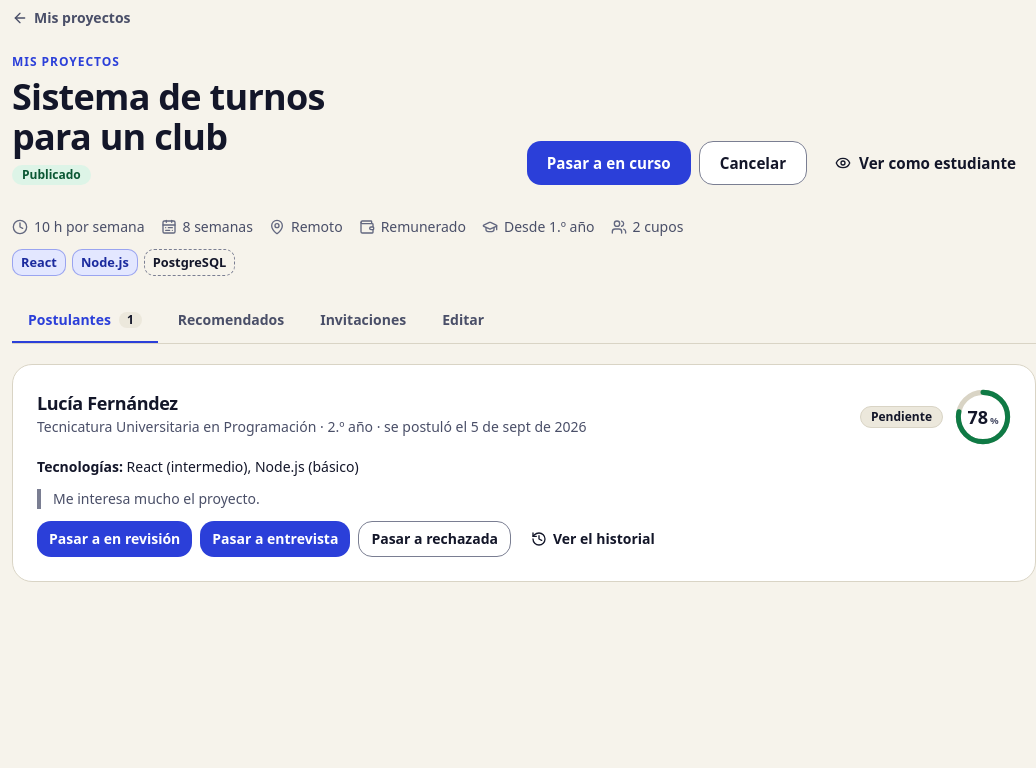
Test: GestionProyectoPage › el publicador puede ver el historial de cada postulación, que se pide recién al abrirlo
The width and height of the screenshot is (1036, 768).
Click the button "Ver el historial": (593, 539) top-left (519, 521), bottom-right (667, 557)
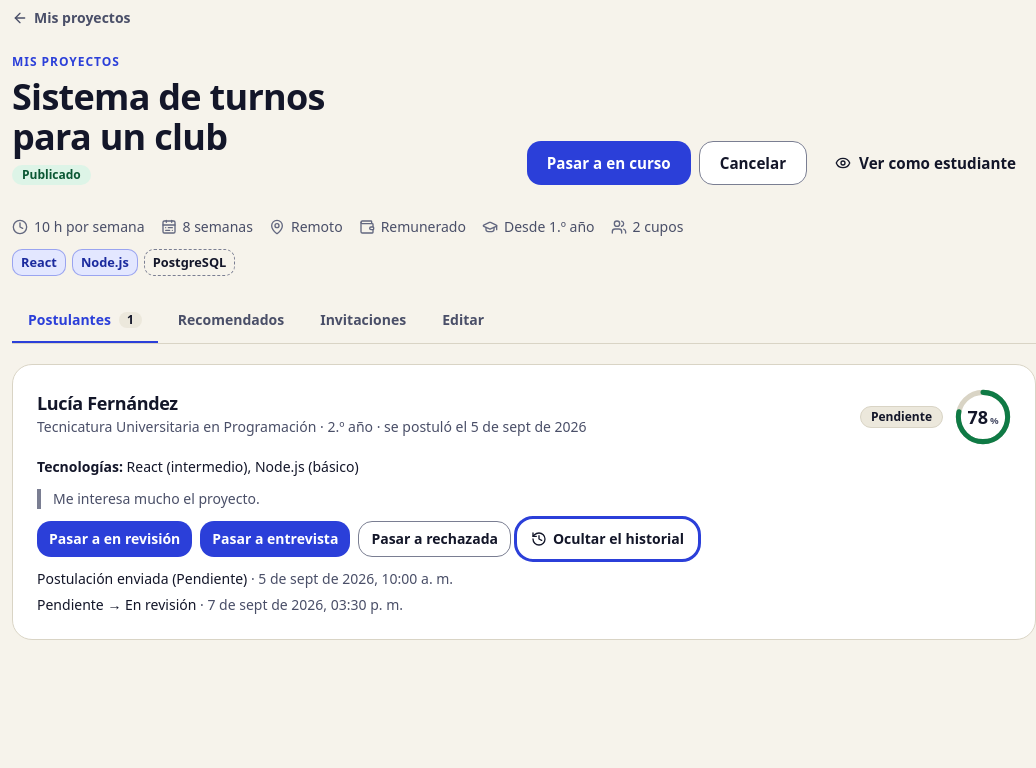
Expected: the list item that starts with "Postulación enviada (Pendiente)" is shown, top-left (37, 569), bottom-right (247, 588)
Expected: the list item "Pendiente → En revisión · 7 de sept de 2026, 03:30 p. m." is shown, top-left (37, 595), bottom-right (403, 614)
Expected: the button "Ocultar el historial" is expanded, top-left (519, 521), bottom-right (696, 557)
